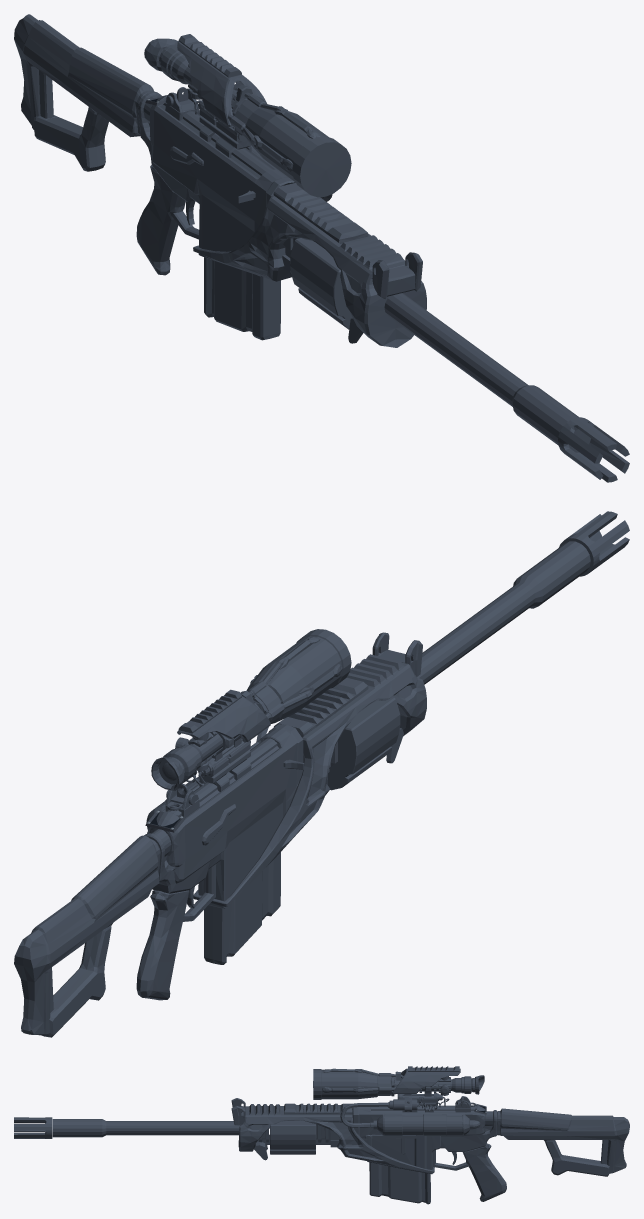
Rendered from kasimov_diegetic.obj.
The picture shows the model from 3 angles, top to bottom: view 1: azimuth 30°, elevation 25°; view 2: azimuth 150°, elevation 25°; view 3: azimuth 270°, elevation 25°; orthographic projection. The views are drawn at different scales.
Parts seen in each view (by area): view 1: kasimov_Diegetic; view 2: kasimov_Diegetic; view 3: kasimov_Diegetic.
Part boxes in pixels (x1,y1,x2,y2): kasimov_Diegetic: (14, 14, 629, 482); kasimov_Diegetic: (14, 511, 629, 1037); kasimov_Diegetic: (14, 1066, 629, 1204).
Size of the model in its own units: 6.77 by 23.02 by 95.06.
